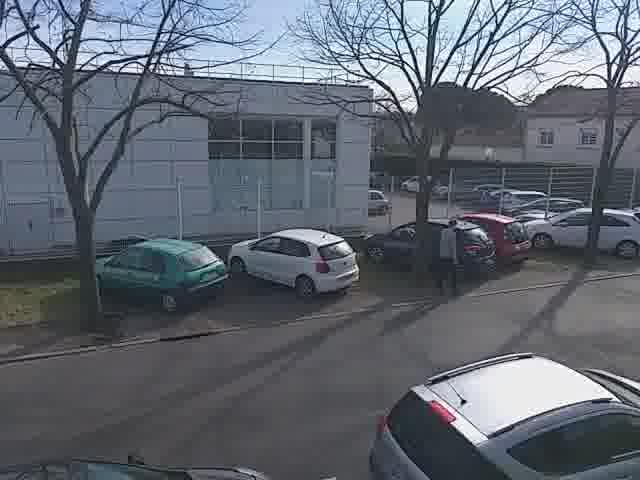persona: (431, 212, 469, 297)
